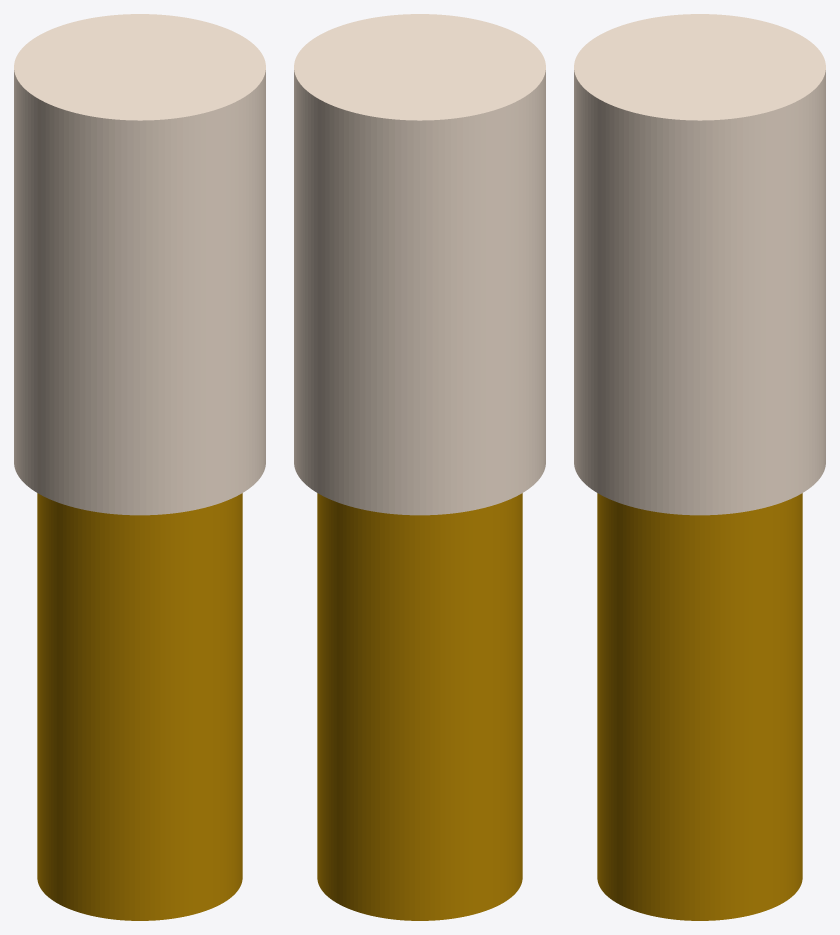
The model's file is Container_Lipstick__0000.glb.
3 views of the same model, side by side, from view 1: azimuth 30°, elevation 25°; view 2: azimuth 150°, elevation 25°; view 3: azimuth 270°, elevation 25° (orthographic).
Parts seen in each view (by area): view 1: cap::cap_shell, tube_base::tube_body; view 2: cap::cap_shell, tube_base::tube_body; view 3: cap::cap_shell, tube_base::tube_body.
Boxes of the visible parts, bbox=[...] form: cap::cap_shell: bbox=[14, 14, 265, 515]; tube_base::tube_body: bbox=[37, 493, 242, 920]; cap::cap_shell: bbox=[294, 14, 545, 515]; tube_base::tube_body: bbox=[317, 493, 522, 920]; cap::cap_shell: bbox=[574, 14, 825, 515]; tube_base::tube_body: bbox=[597, 493, 802, 920].
Size of the model in its own units: 0.0259 by 0.0917 by 0.0258.
